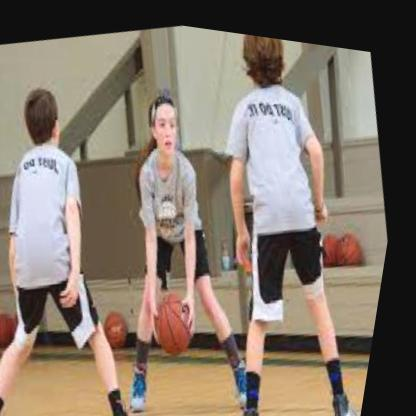basketball: (155, 281, 212, 352), (337, 218, 377, 262), (107, 301, 145, 347), (321, 219, 353, 260), (0, 309, 30, 350), (0, 308, 5, 352)
